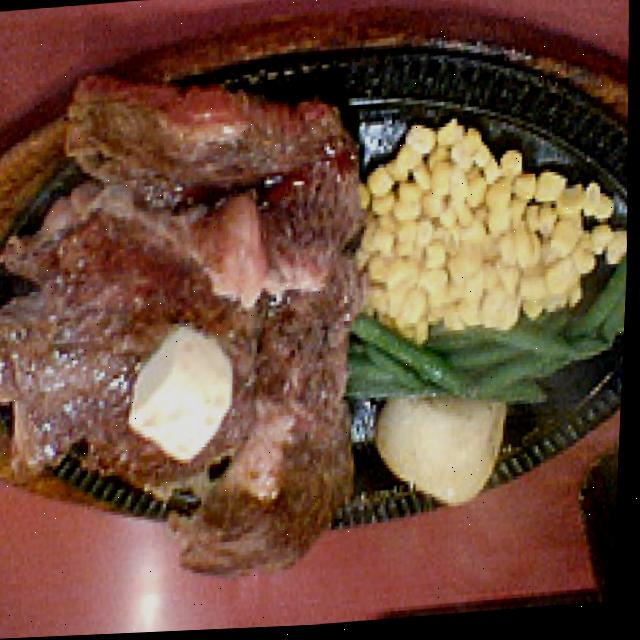牛肉菜式: (0, 53, 382, 619)
